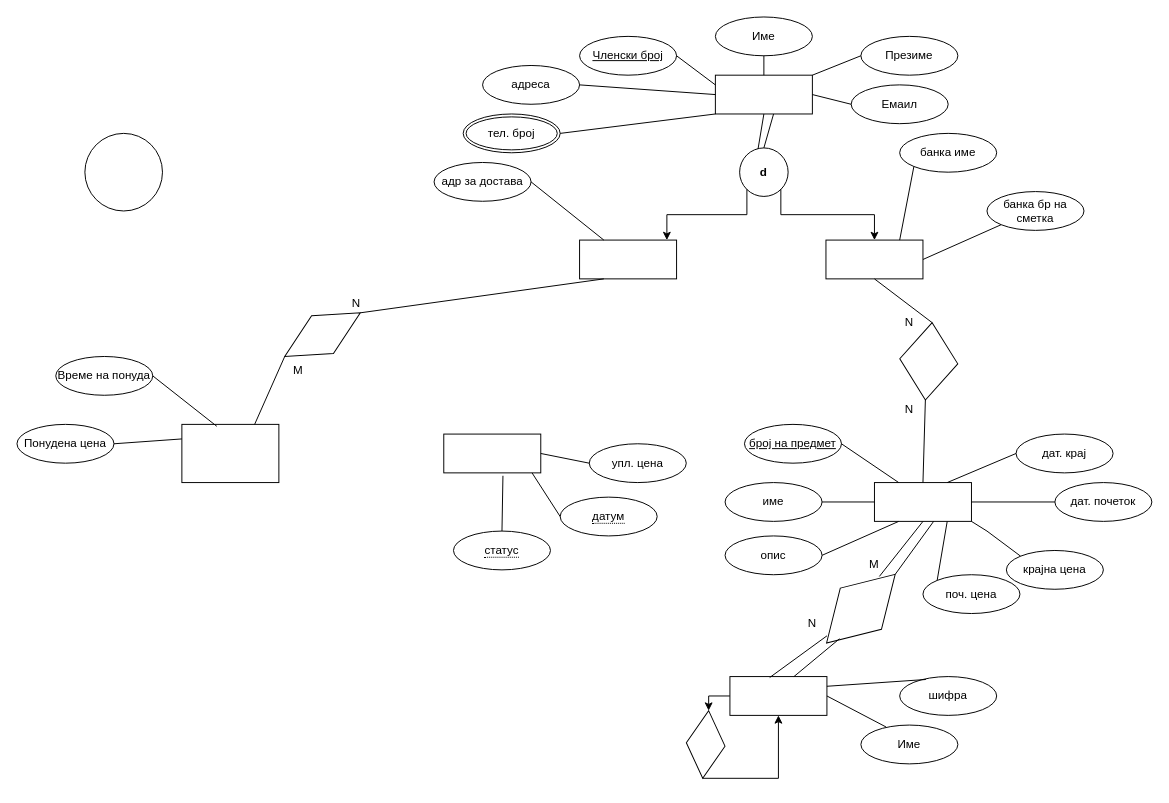
The diagram is 1169 pixels wide and 803 high, and some of its shapes have lost their labels. Each missing label, with the centre of its shape:
"Категорија" goes at [778,695].
"Купувач" goes at [628,259].
"Понуда" goes at [230,453].
"Предмет" goes at [922,501].
"Продавач" goes at [874,259].
"Трансакција" goes at [492,453].
"Член" goes at [763,94].
